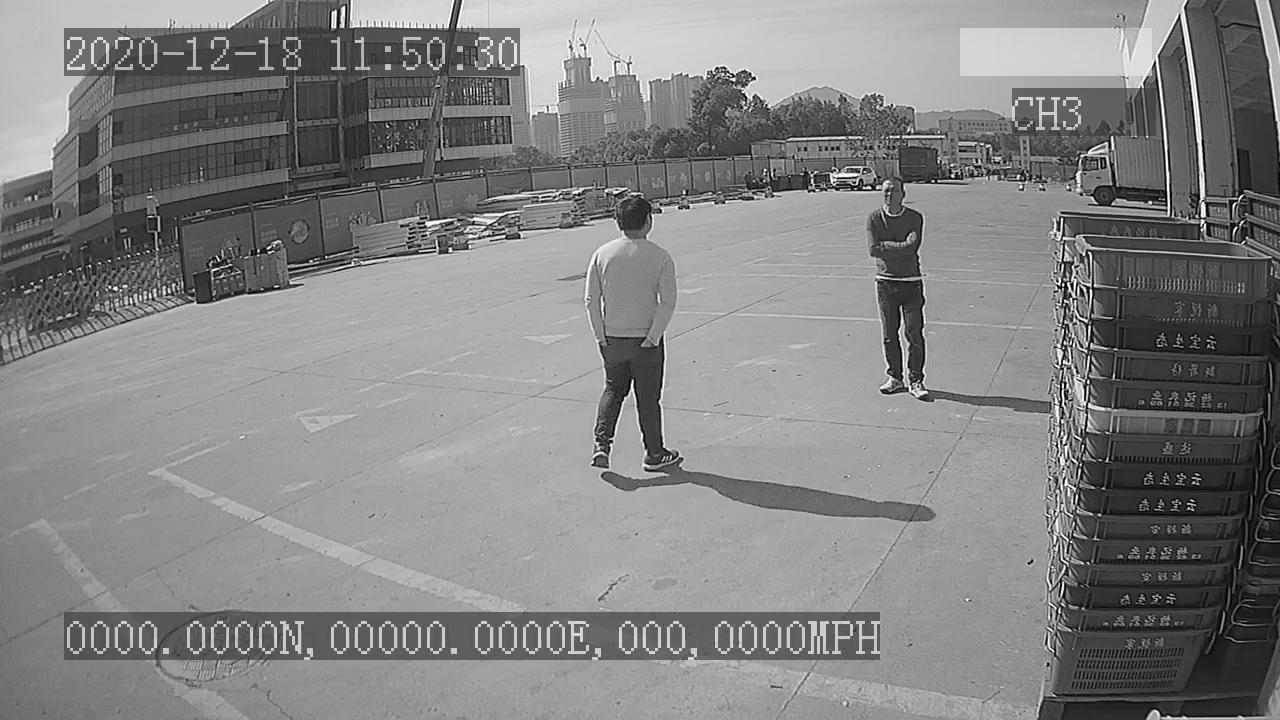person: (581, 190, 686, 481), (863, 177, 936, 403)
